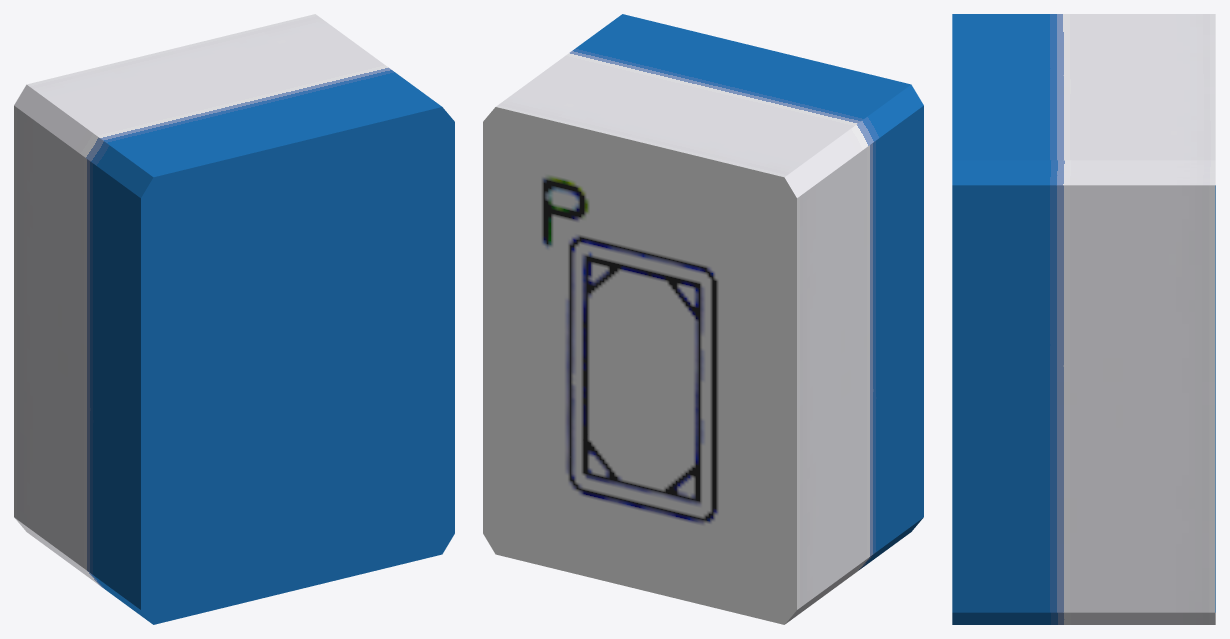
The model's file is mahjong_tile_33.glb.
3 renders of one model, left to right at view 1: azimuth 30°, elevation 25°; view 2: azimuth 150°, elevation 25°; view 3: azimuth 270°, elevation 25°, orthographic. The views are drawn at different scales.
Visible parts, largest first — view 1: Cube; view 2: Cube; view 3: Cube.
Part boxes in pixels (left/top/right/bottom): Cube: left=14, top=14, right=454, bottom=624; Cube: left=483, top=14, right=923, bottom=624; Cube: left=952, top=14, right=1215, bottom=624.
Size of the model in its own units: 1 by 1.36 by 0.7.
2 materials, 2 textured.
